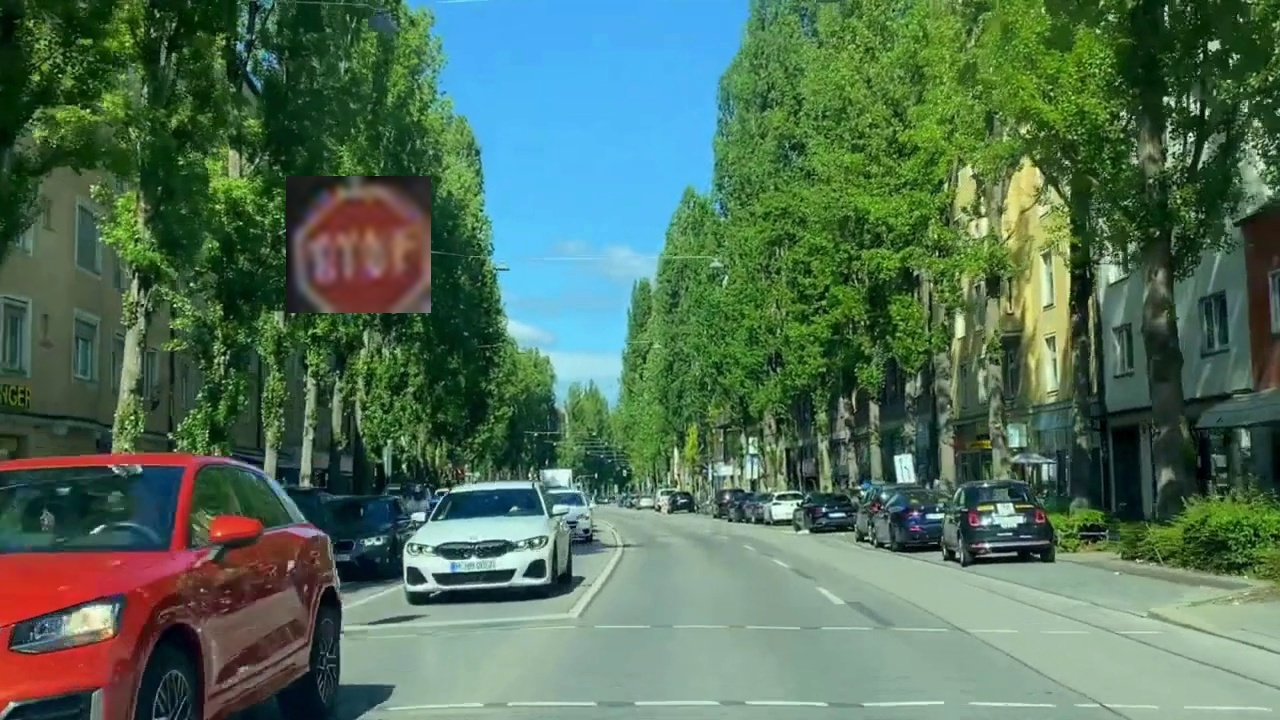Stop: (286, 176, 431, 313)
